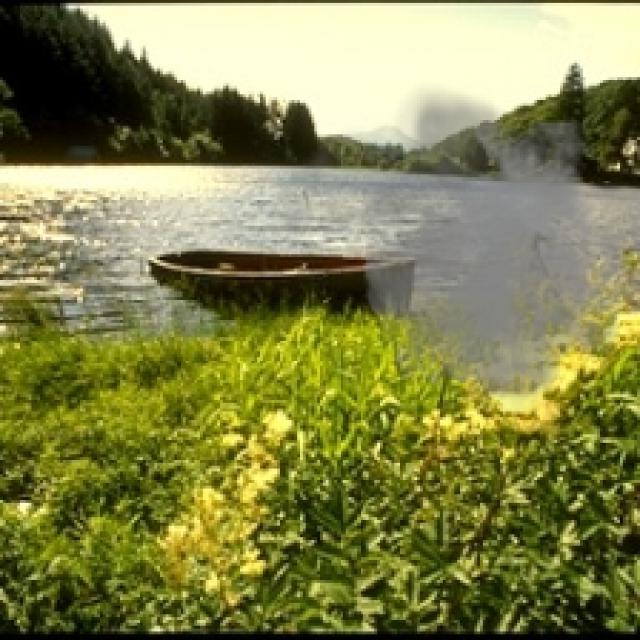smoke: (266, 80, 637, 426)
